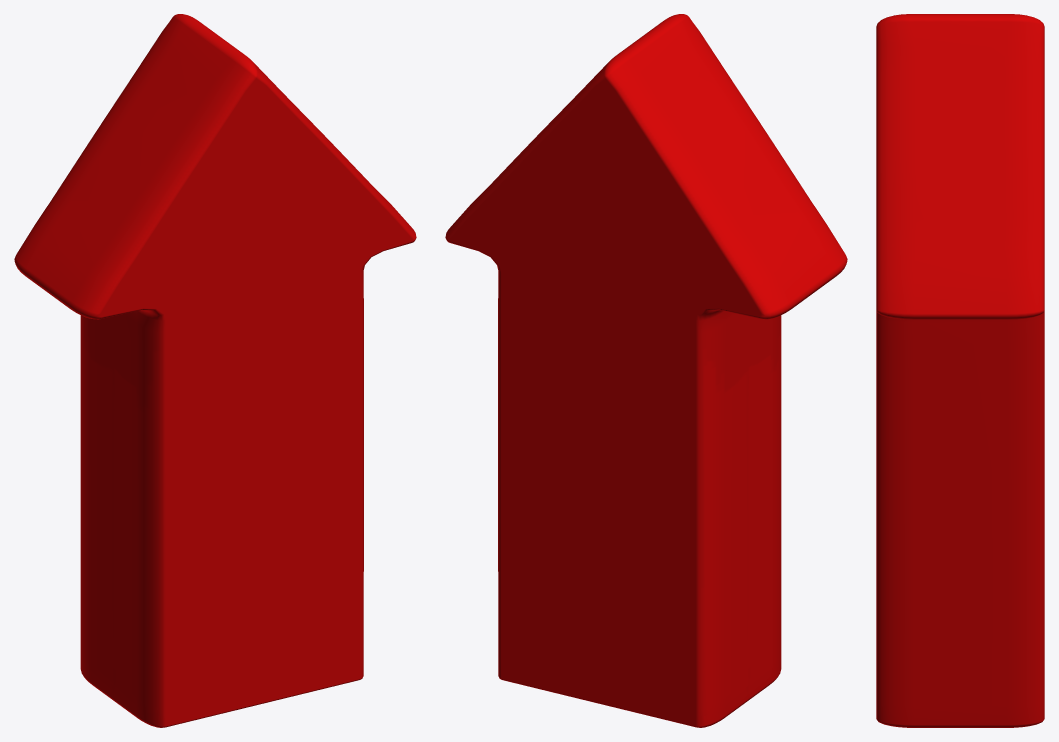
The model's file is arrow.fbx.
3 renders of one model, left to right at view 1: azimuth 30°, elevation 25°; view 2: azimuth 150°, elevation 25°; view 3: azimuth 270°, elevation 25°, orthographic. The views are drawn at different scales.
Parts seen in each view (by area): view 1: node_id30; view 2: node_id30; view 3: node_id30.
Part boxes in pixels (x1,y1,x2,y2): node_id30: [14, 14, 416, 727]; node_id30: [445, 14, 847, 727]; node_id30: [876, 14, 1044, 727].
Size of the model in its own units: 0.056 by 0.1022 by 0.0236.
Materials: 1 (1 with a texture image).
